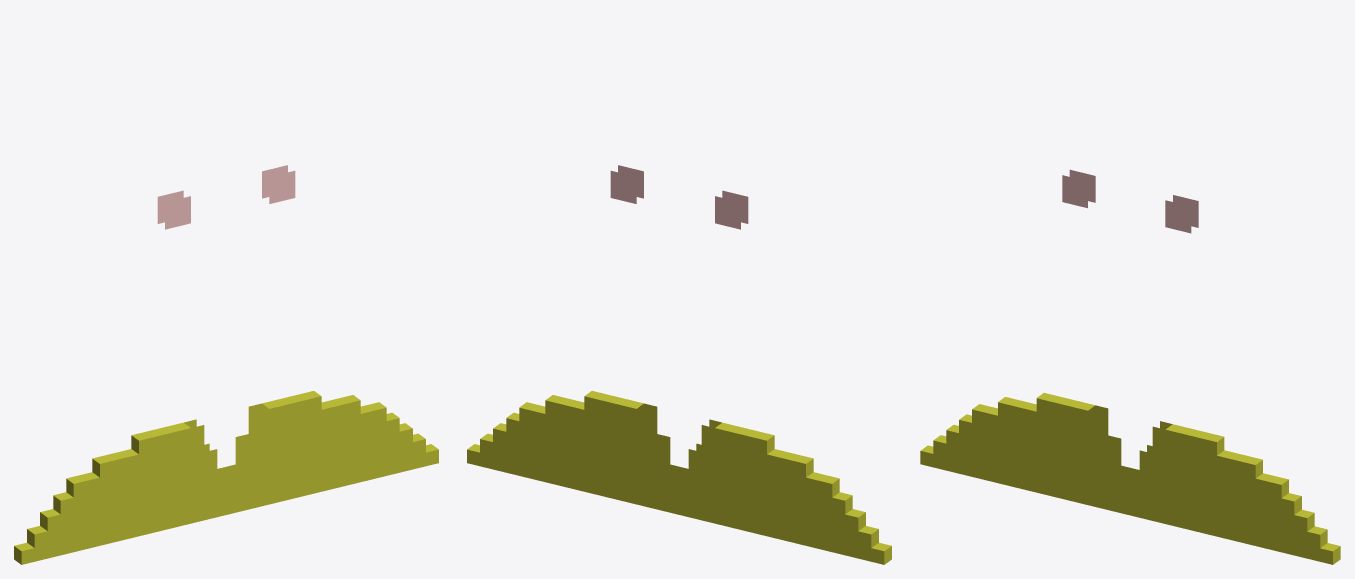
The model's file is Male3.obj.
The picture shows the model from 3 angles, left to right: view 1: azimuth 30°, elevation 25°; view 2: azimuth 150°, elevation 25°; view 3: azimuth 330°, elevation 25°; orthographic projection.
Bounding box in the file's own units: 3.2 × 3.6 × 0.1.
